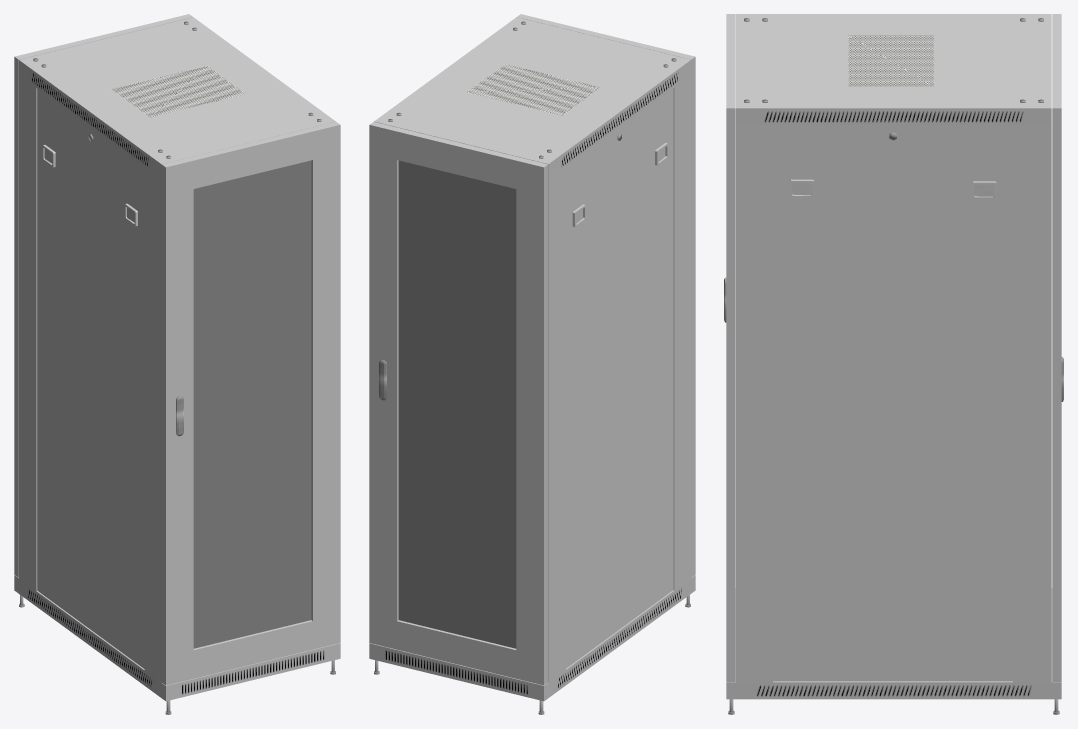
File: RKAG36.fbx
The picture shows the model from 3 angles, left to right: view 1: azimuth 30°, elevation 25°; view 2: azimuth 150°, elevation 25°; view 3: azimuth 270°, elevation 25°; orthographic projection. The views are drawn at different scales.
Visible parts, largest first — view 1: frontdoor, RKAG36, Box143, backdoor; view 2: backdoor, RKAG36, Box143, frontdoor; view 3: RKAG36, Box143, frontdoor, backdoor.
Part boxes in pixels (x1,y1,x2,y2): frontdoor: [161, 122, 340, 685]; RKAG36: [37, 89, 144, 668]; Box143: [14, 17, 340, 714]; backdoor: [14, 14, 192, 577]; backdoor: [369, 122, 548, 685]; RKAG36: [566, 88, 673, 668]; Box143: [369, 17, 695, 714]; frontdoor: [517, 14, 695, 577]; RKAG36: [773, 125, 1012, 681]; Box143: [726, 14, 1061, 714]; frontdoor: [724, 14, 735, 681]; backdoor: [1052, 14, 1063, 681].
Size of the model in its own units: 610 by 1805 by 913.
Materials: 6 (5 with a texture image).
